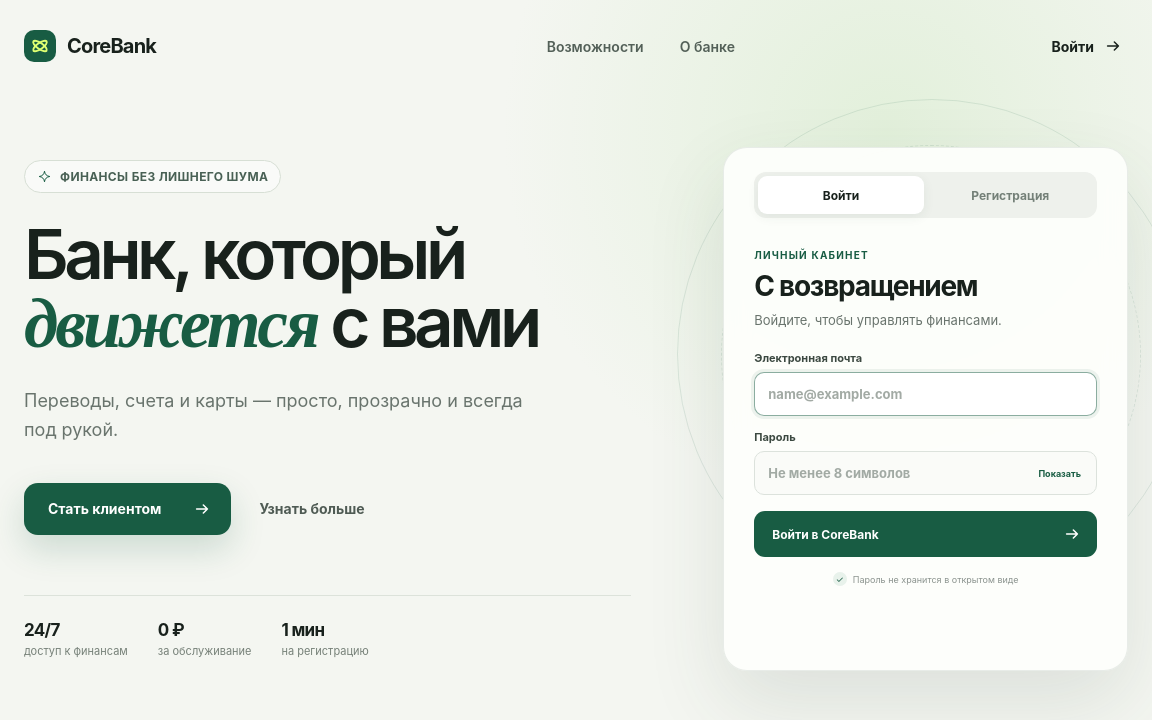
Test: authentication › logs in and opens the dashboard
Step 1. Type "alex@example.com" into the field labelled "Электронная почта" → [926, 394], box [754, 372, 1097, 416]
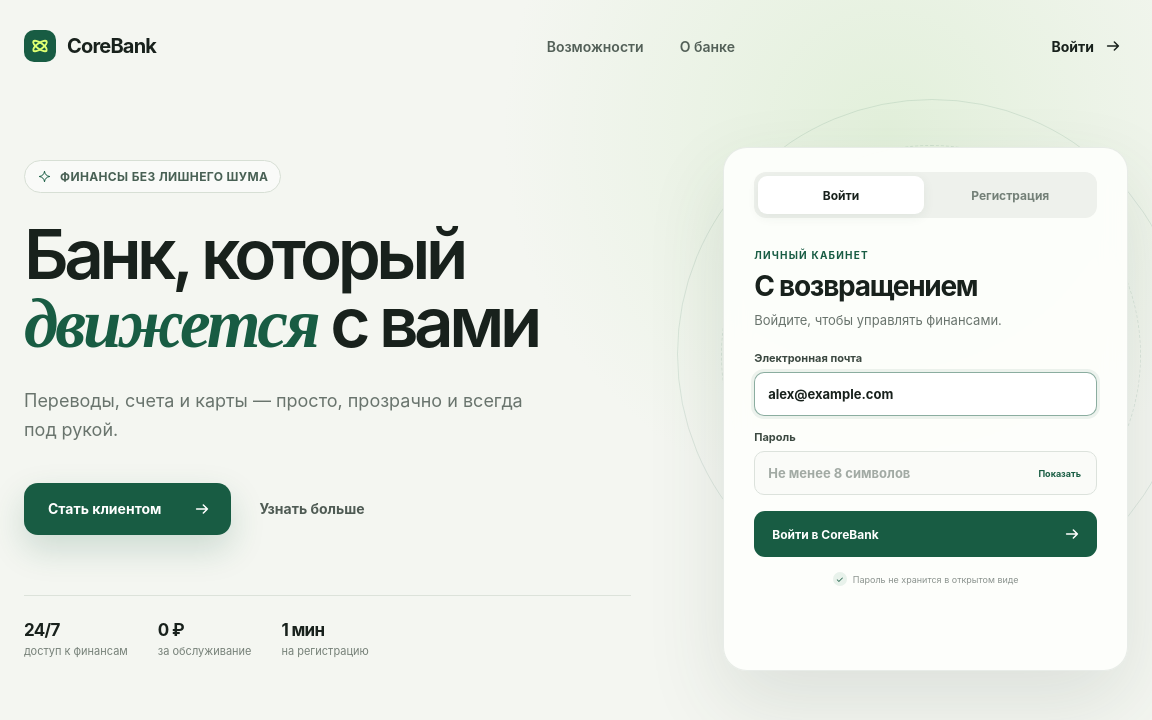
Step 2. Type "strong-password" into the password field labelled "Пароль" → [926, 473], box [754, 451, 1097, 495]
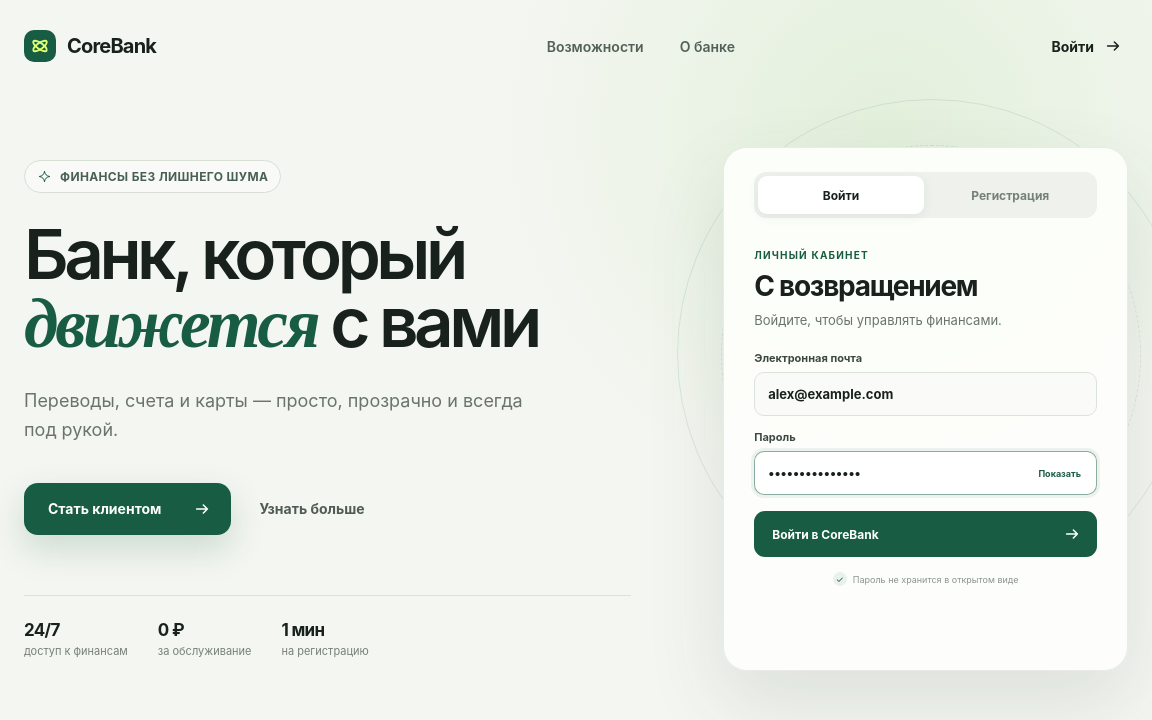
Step 3. Click the button "Войти в CoreBank" → [825, 534], box [754, 511, 1097, 557]
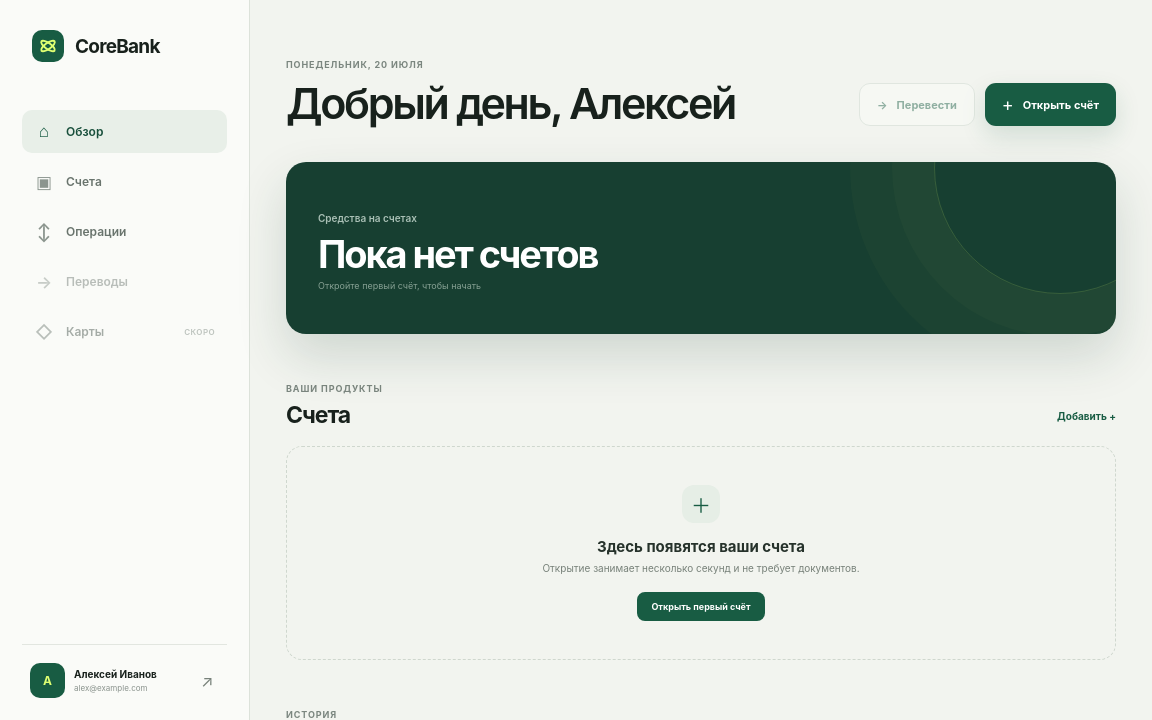
Result: the heading "Добрый день, Алексей" is shown at [286, 80, 735, 126]
